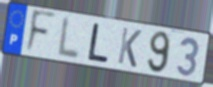3: (175, 35, 201, 78)
9: (146, 29, 173, 75)
F: (23, 8, 57, 56)
K: (116, 26, 143, 70)
L: (55, 15, 81, 62), (86, 22, 110, 65)
